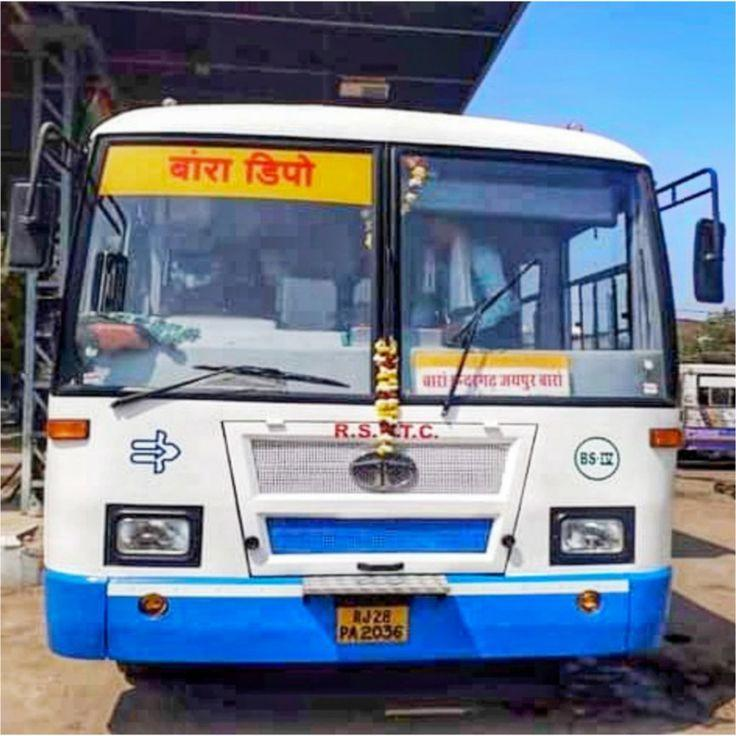Bus: (28, 100, 683, 686)
